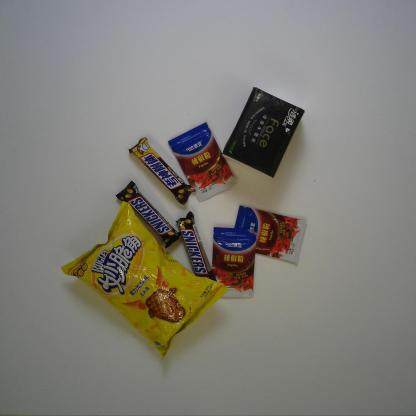Chocolate: (128, 136, 197, 206), (114, 180, 182, 250), (175, 209, 217, 282)
Puffed Food: (60, 200, 229, 362)
Seasoner: (167, 121, 238, 203), (234, 204, 307, 264), (211, 226, 257, 299)
Tissue: (221, 86, 306, 179)
